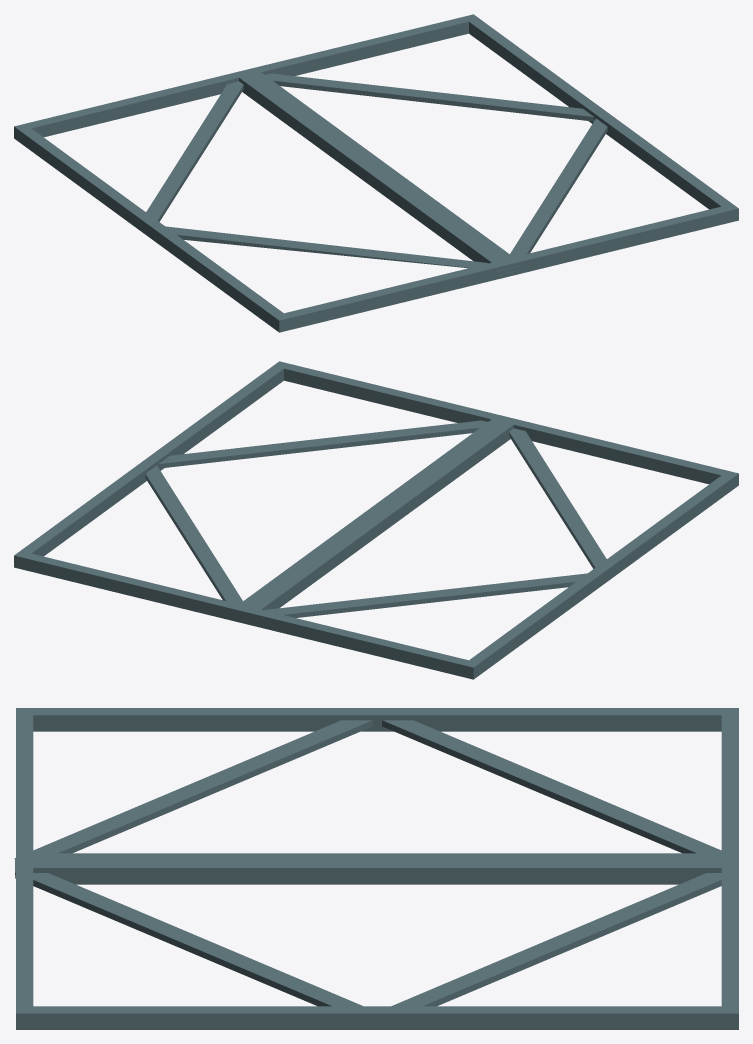
File: roof_frame.glb
3 renders of one model, top to bottom at view 1: azimuth 30°, elevation 25°; view 2: azimuth 150°, elevation 25°; view 3: azimuth 270°, elevation 25°, orthographic. The views are drawn at different scales.
Visible parts, largest first — view 1: RoofFrame_Single; view 2: RoofFrame_Single; view 3: RoofFrame_Single.
Boxes of the visible parts, left/top/right/bottom form: RoofFrame_Single: left=14, top=14, right=738, bottom=332; RoofFrame_Single: left=14, top=361, right=738, bottom=679; RoofFrame_Single: left=14, top=708, right=738, bottom=1029.
Size of the model in its own units: 4 by 0.1 by 4.01.
Materials: 1 (1 with a texture image).
